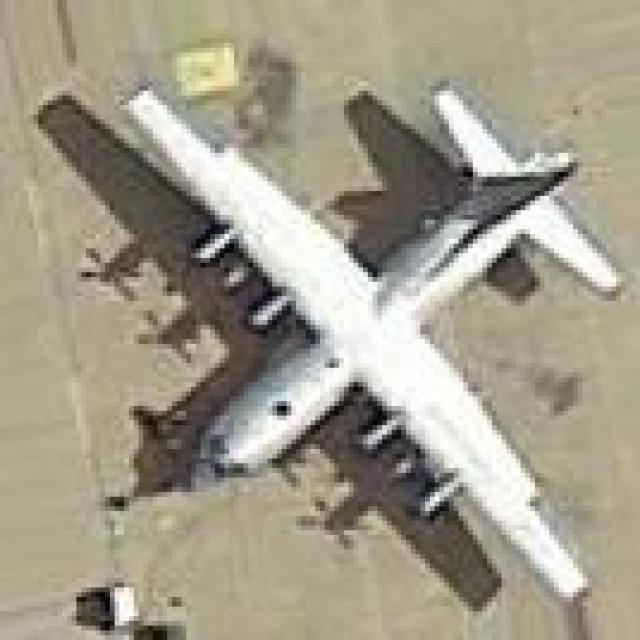C-130_TopDown: (30, 69, 627, 614)
